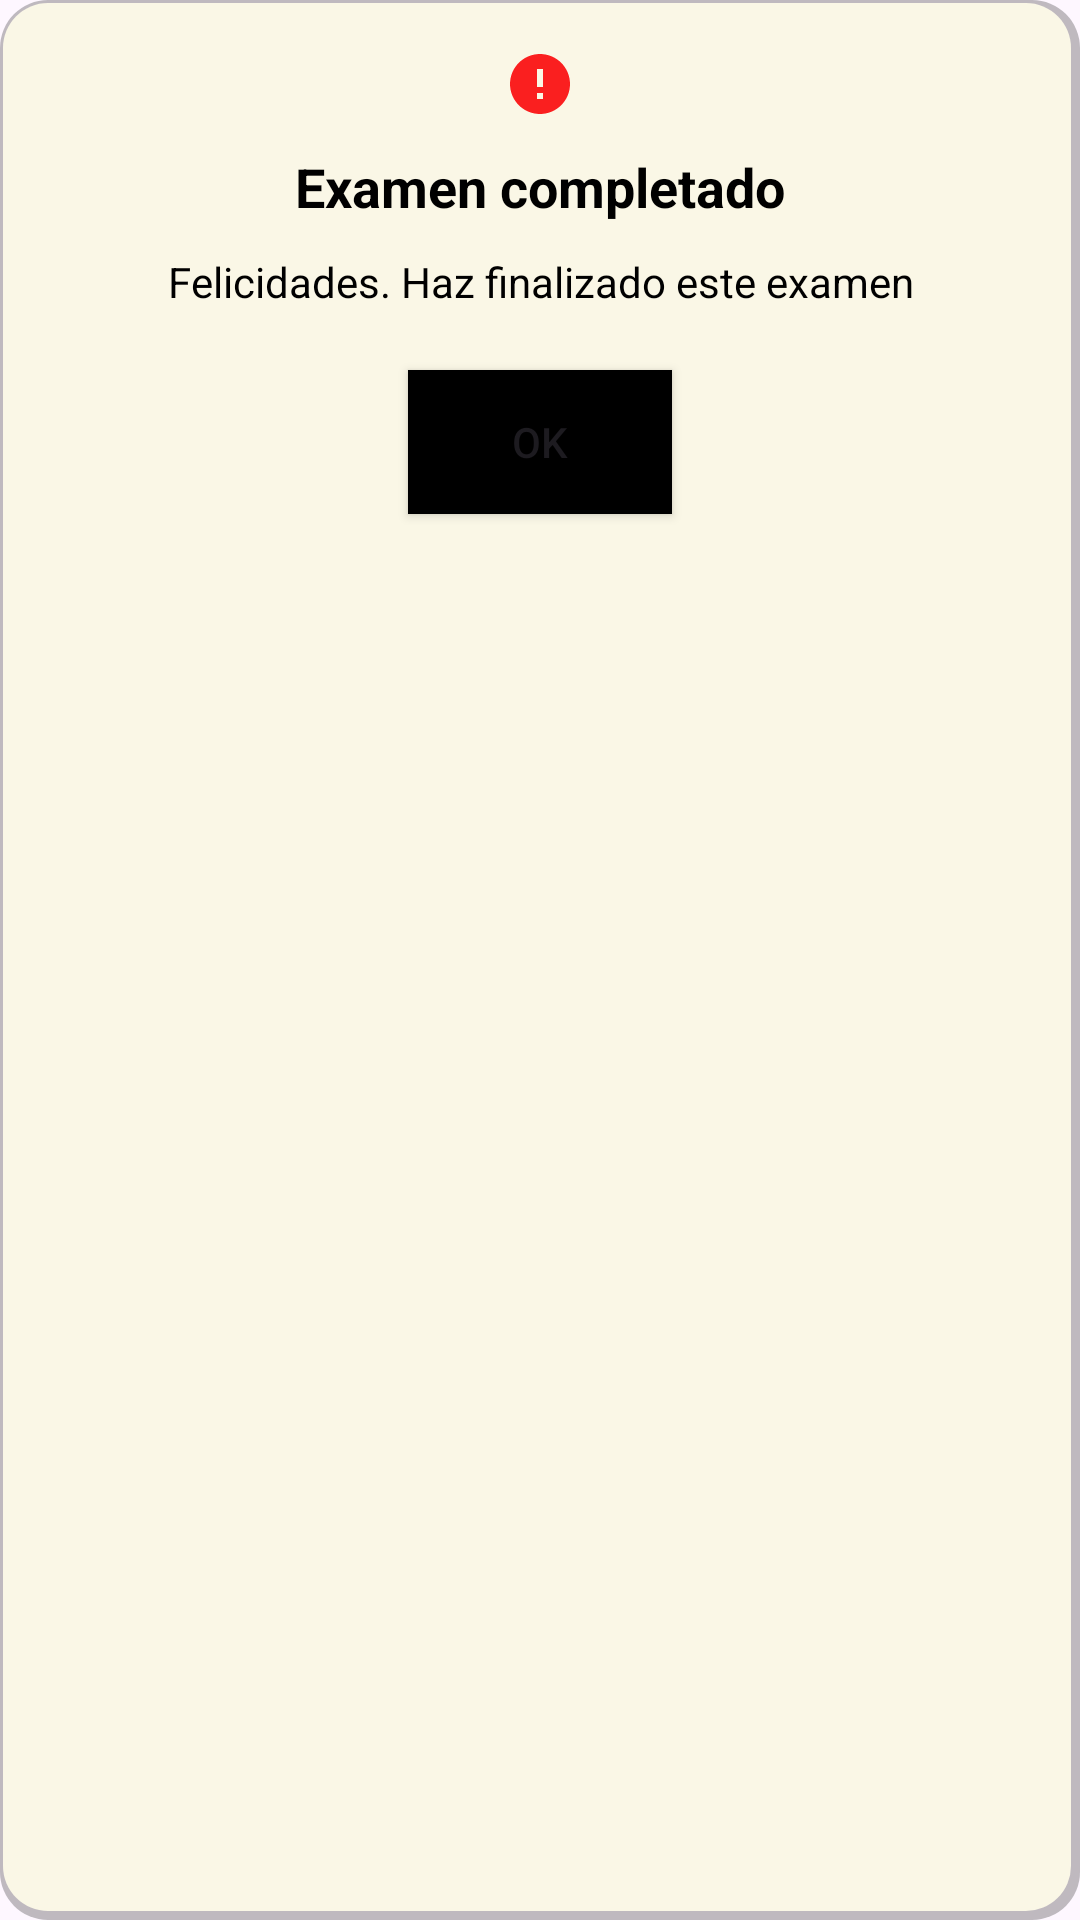

Screen size 1080x1920. Icon name, then its center in pixels as (x,y):
error: (540,84)
